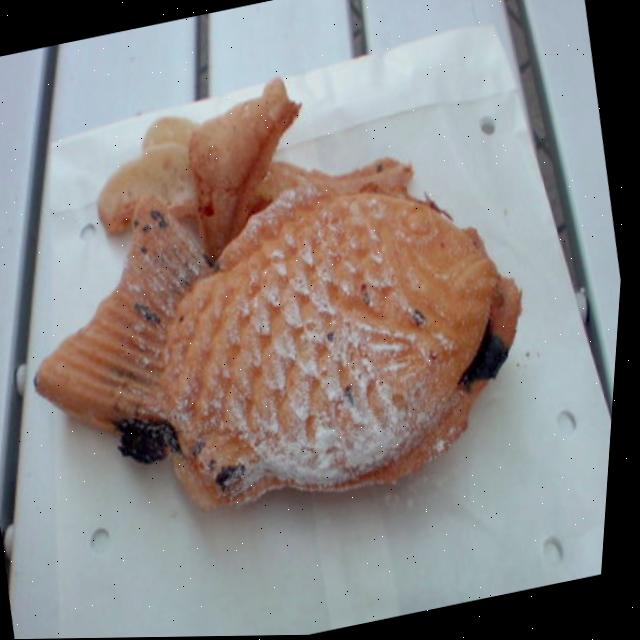熟制海鲜: (0, 75, 578, 546)
